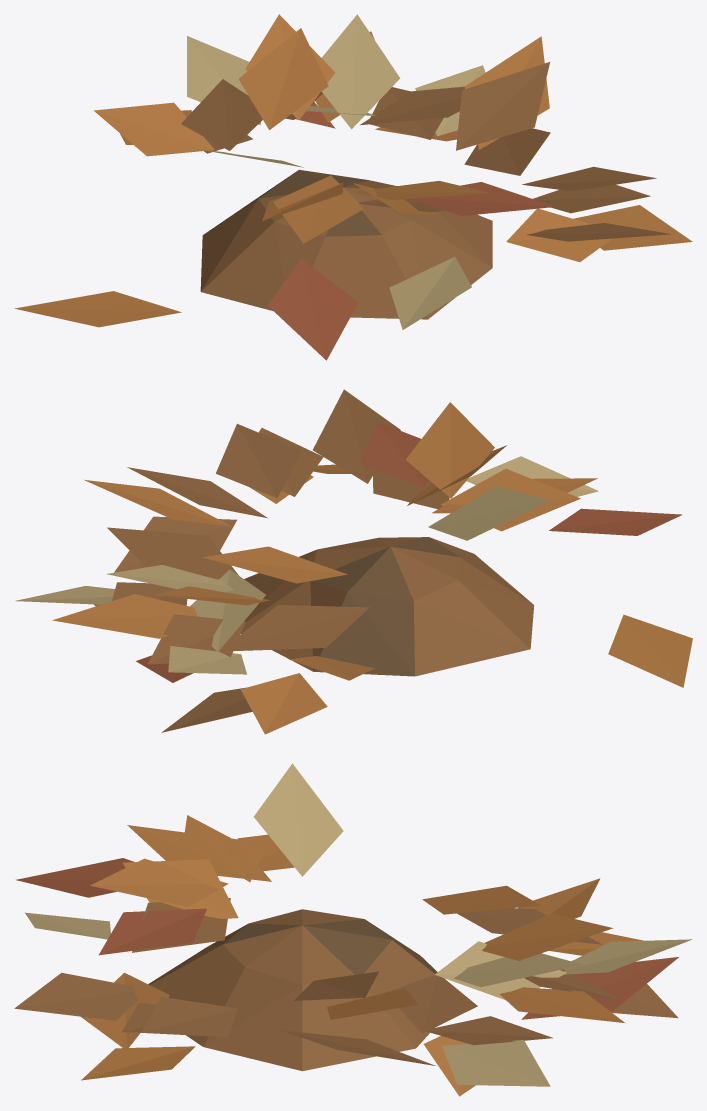
File: GroundDetail_DryLeaves_A.fbx
3 views of the same model, one above another, from view 1: azimuth 30°, elevation 25°; view 2: azimuth 150°, elevation 25°; view 3: azimuth 270°, elevation 25° (orthographic). The views are drawn at different scales.
Visible parts, largest first — view 1: GroundDetail_DryLeaves_A; view 2: GroundDetail_DryLeaves_A; view 3: GroundDetail_DryLeaves_A.
Part boxes in pixels (box(x1,y1,x2,y2)): GroundDetail_DryLeaves_A: box(15, 14, 692, 360); GroundDetail_DryLeaves_A: box(15, 389, 692, 734); GroundDetail_DryLeaves_A: box(14, 763, 692, 1096).
Bounding box in the file's own units: 0.4312 × 0.1085 × 0.4316.
1 material, 1 textured.
